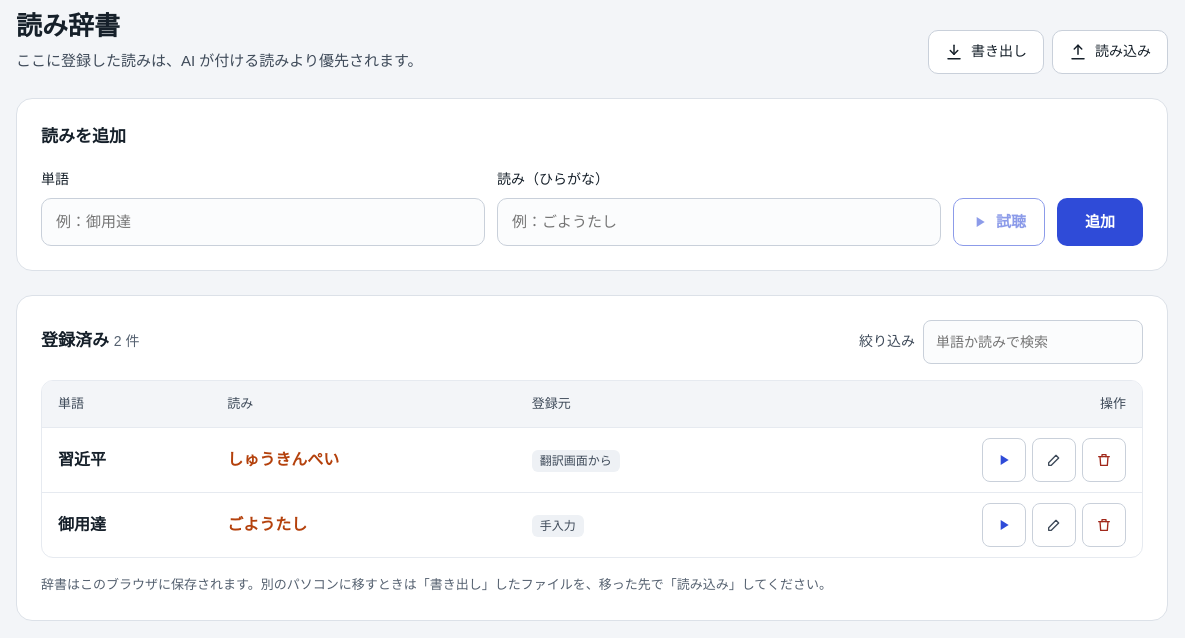
Test: Dictionary 一覧 › 単語か読みで絞り込める
Type "ごよう" into the search field labelled "絞り込み". click: (1033, 342)
box: [923,320,1143,364]
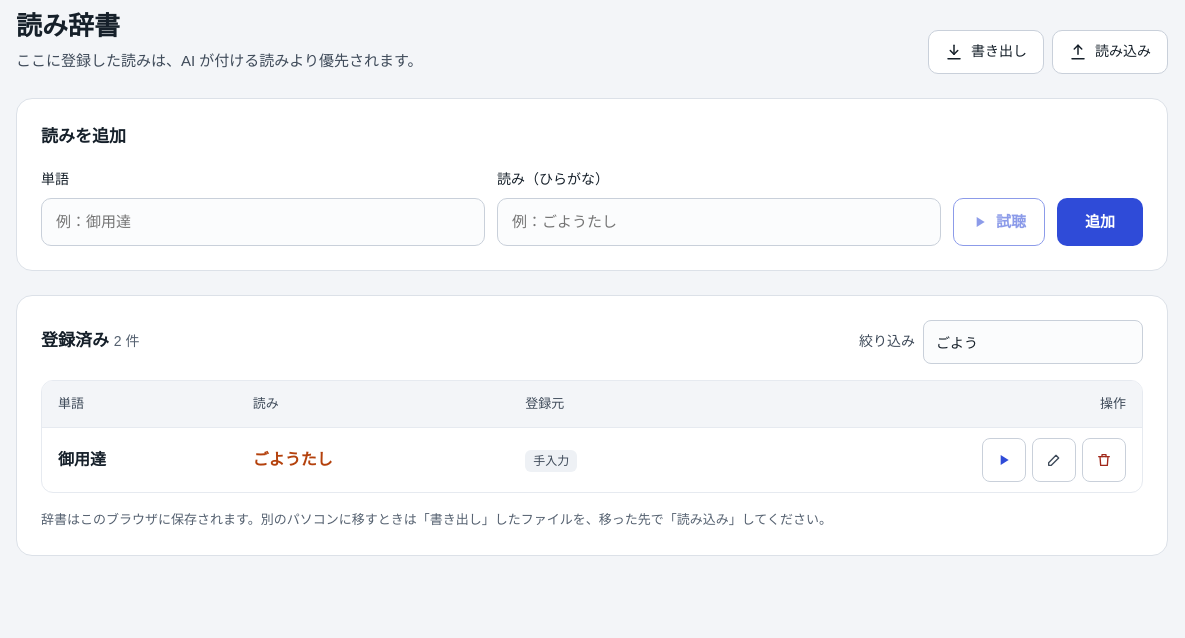
Expected: the cell "御用達" is shown, [42,427,237,492]
Replace the text in the search field labelled "絞り込み" with "習". click: (1033, 342)
box: [923,320,1143,364]
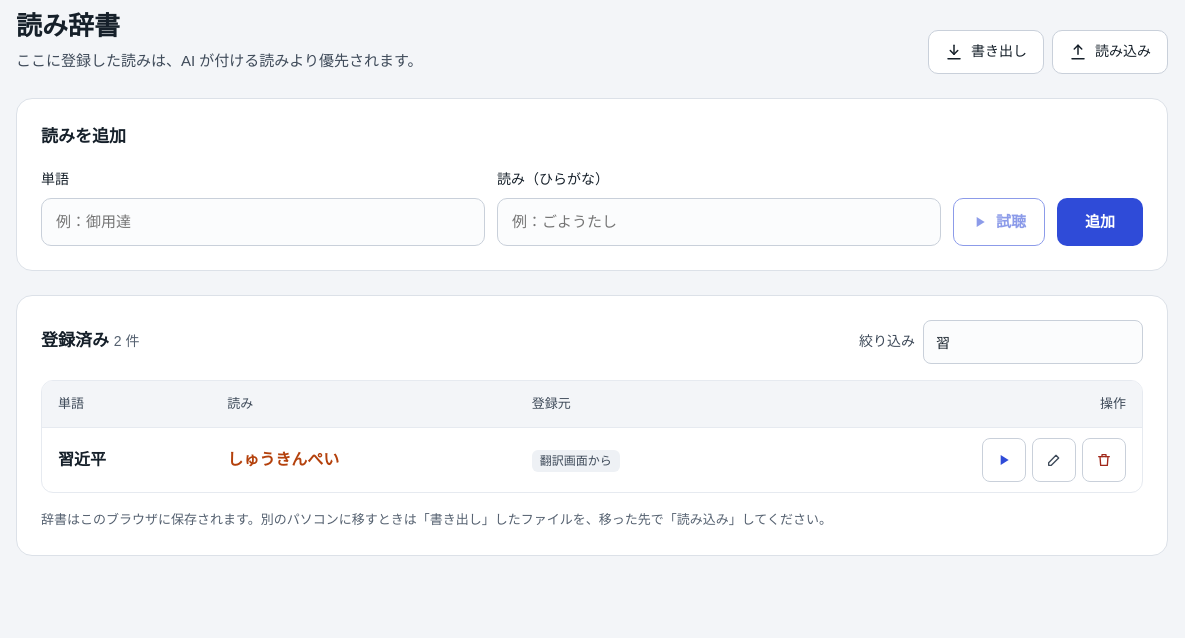
Result: the cell "習近平" is shown at [42,427,211,492]
Replace the text in the search field labelled "絞り込み" with "ない語". click: (1033, 342)
box: [923,320,1143,364]
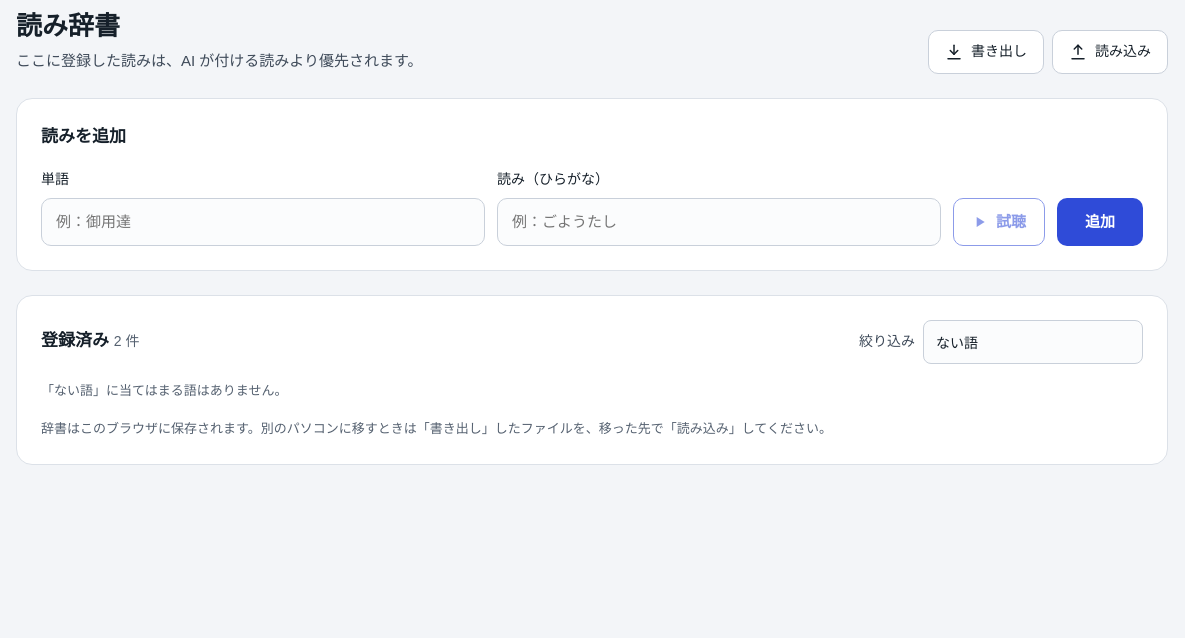
Result: no rows are shown
Result: the text "「ない語」に当てはまる語はありません。" is shown at [41,383,287,398]
